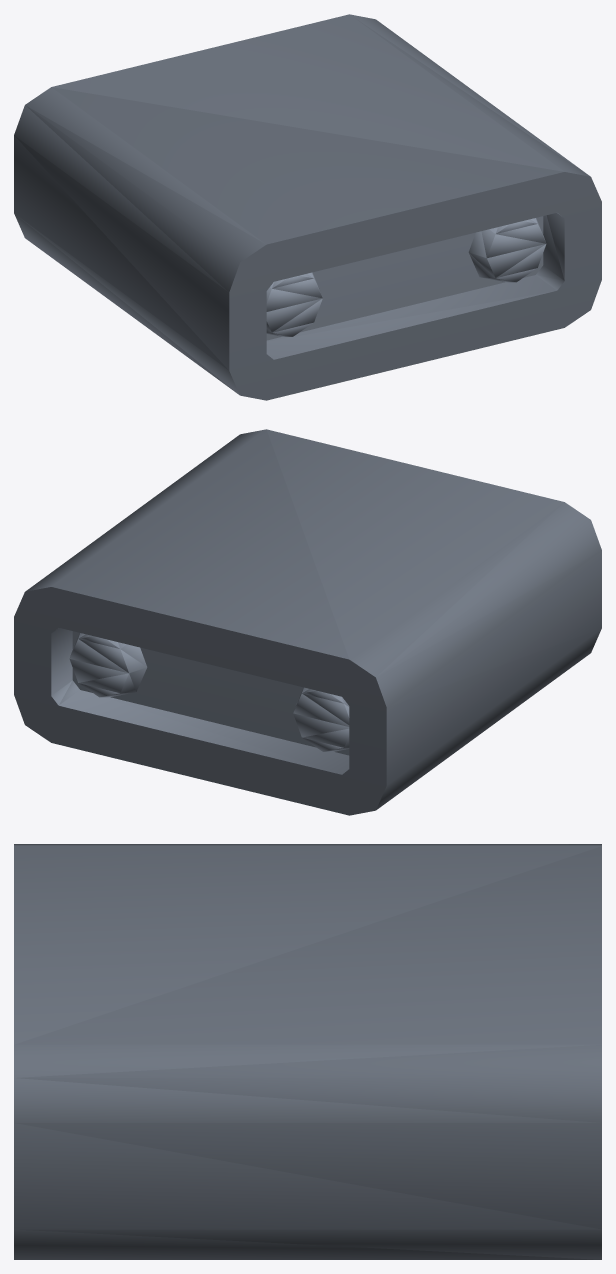
Rendered from factory_conveyor.fbx.
3 views of the same model, one above another, from view 1: azimuth 30°, elevation 25°; view 2: azimuth 150°, elevation 25°; view 3: azimuth 270°, elevation 25° (orthographic). The views are drawn at different scales.
Parts seen in each view (by area): view 1: factory_conveyor; view 2: factory_conveyor; view 3: factory_conveyor.
Part boxes in pixels (x1,y1,x2,y2): factory_conveyor: (14,14,601,400); factory_conveyor: (14,429,601,815); factory_conveyor: (14,844,601,1259).
Bounding box in the file's own units: 2 × 0.8 × 2.
Materials: 1 (1 with a texture image).
